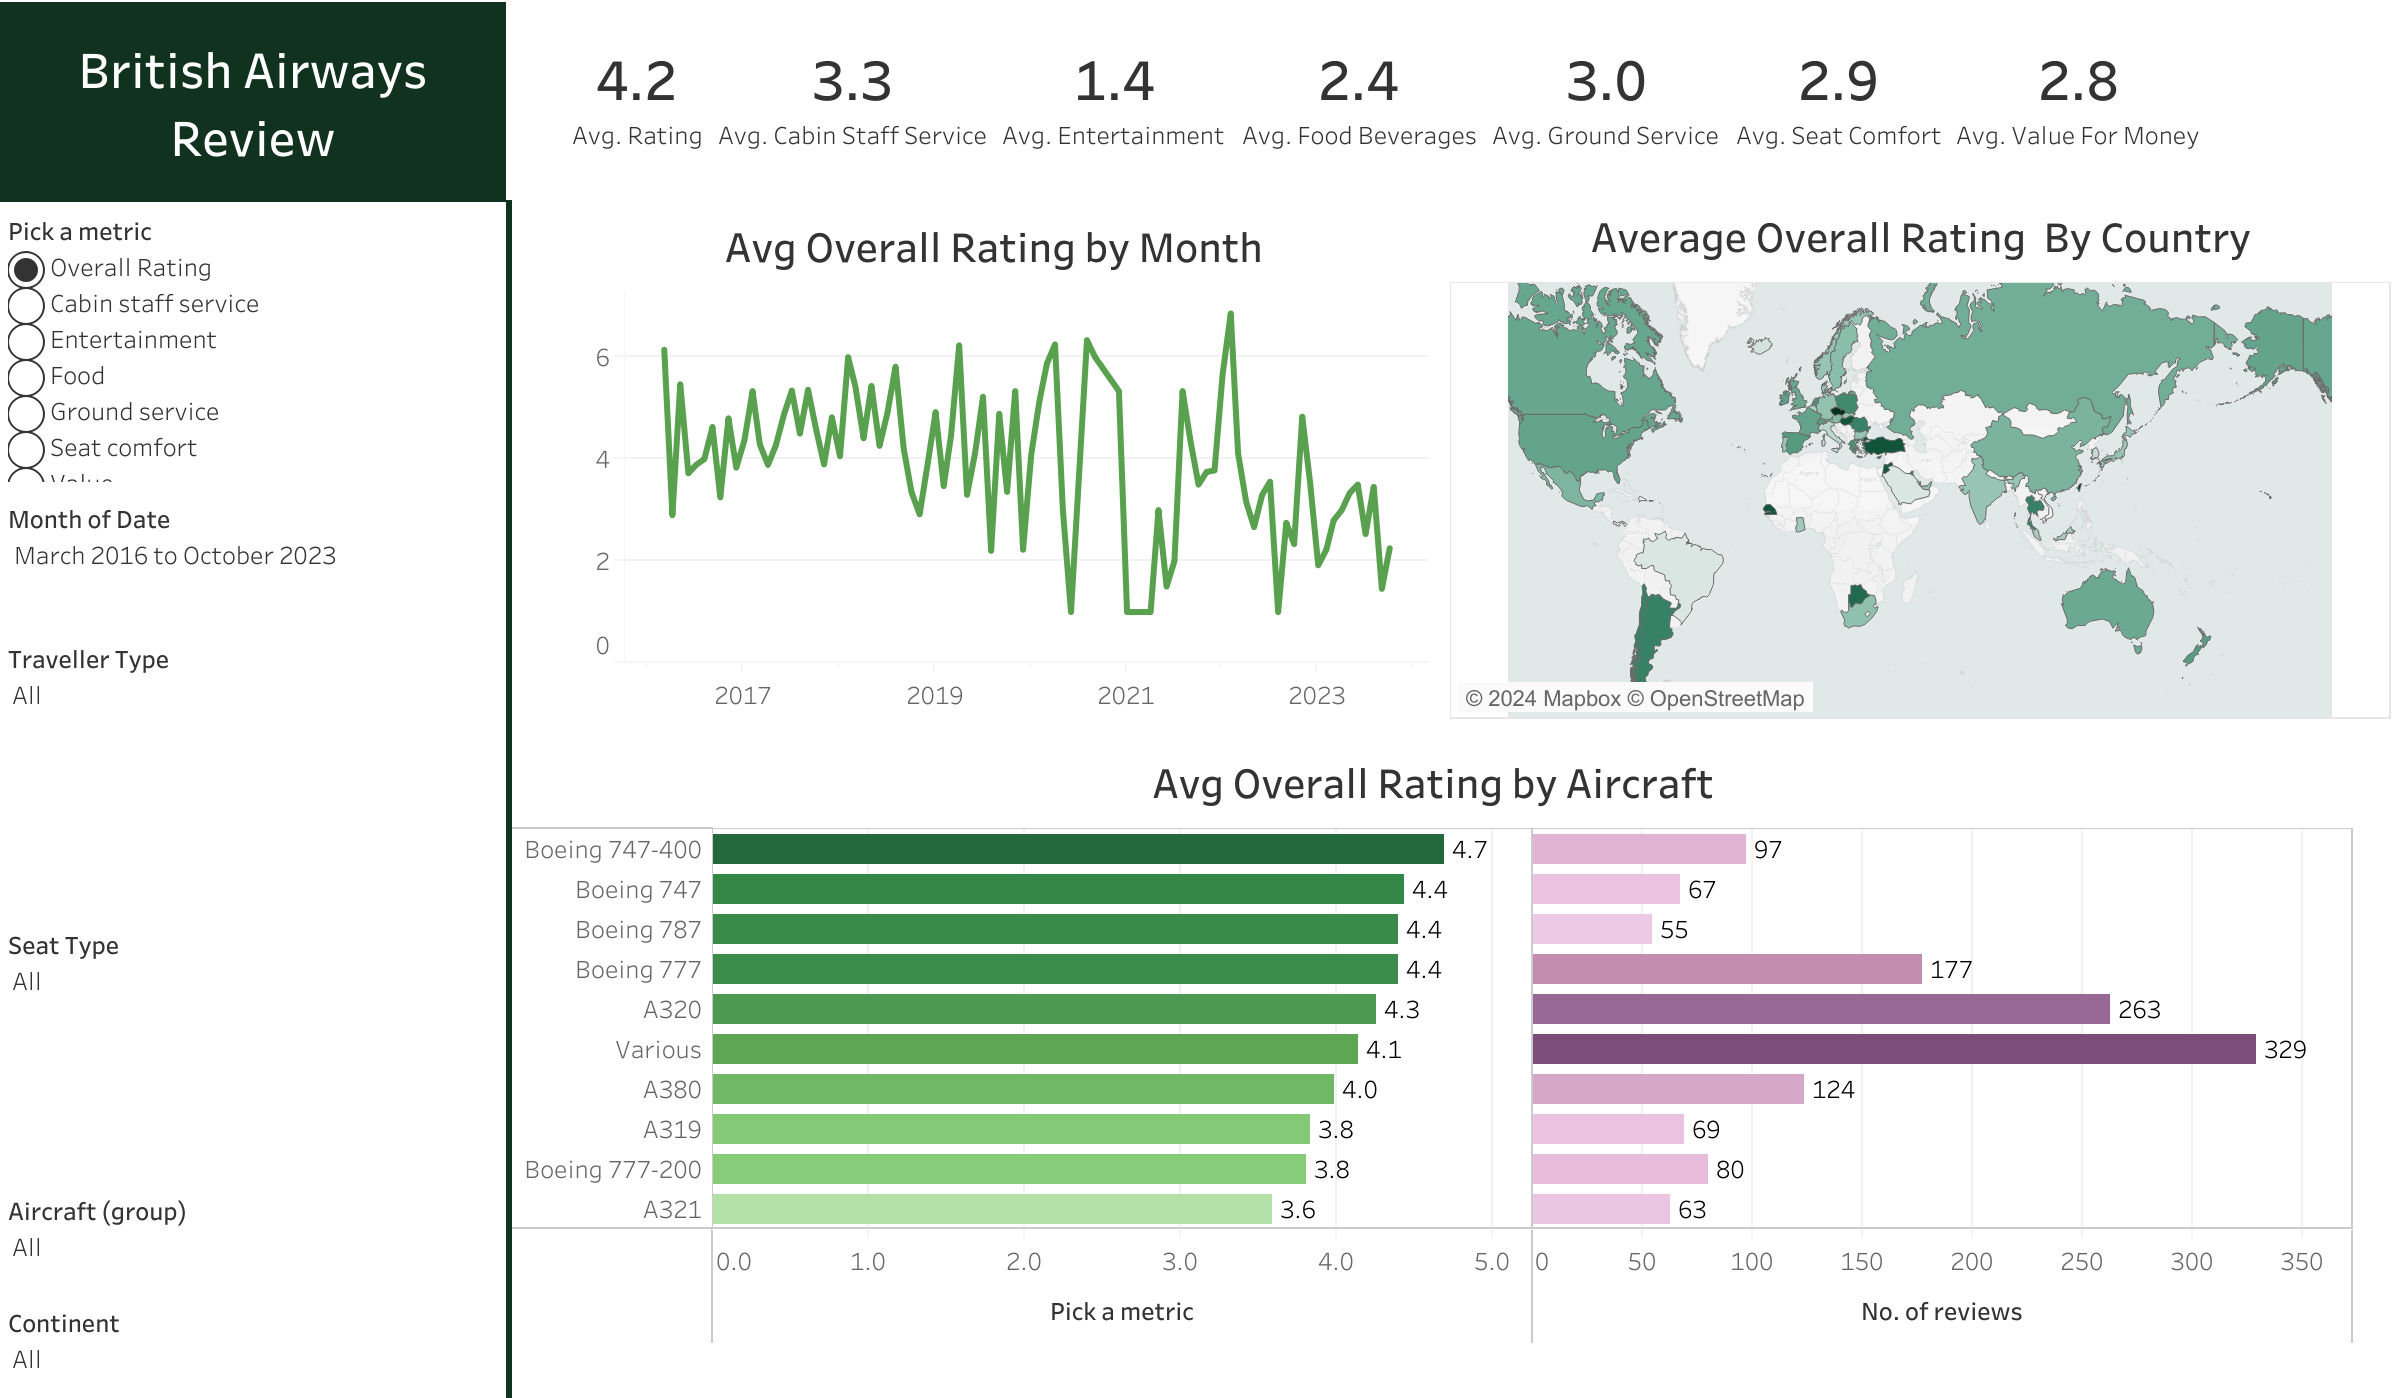

The dashboard page shown, as its layout file describes it:
{"tool":"tableau","page":{"name":"Dashboard 1","canvas":[1200,700],"ordinal":0},"visuals":[{"type":"title","box":[0,1,253,100]},{"type":"worksheet","title":"Summary","mark":"Automatic","box":[278,1,922,100]},{"type":"worksheet","title":"Map","mark":"Automatic","box":[725,98,471,262]},{"type":"blank","box":[253,100,3,600]},{"type":"parameter","param":"[Parameters].[Parameter 1]","box":[0,101,253,156]},{"type":"worksheet","title":"Month","mark":"Automatic","rows":["Calculation_2949646682829025280"],"cols":["date"],"box":[278,101,438,262]},{"type":"filter","title":"Map","param":"[federated.1vhcs860m25i4418o219k0uni1vg].[tmn:date:qk]","box":[0,257,253,69]},{"type":"filter","title":"Map","param":"[federated.1vhcs860m25i4418o219k0uni1vg].[none:traveller_type:nk]","box":[0,326,253,146]},{"type":"worksheet","title":"Aircraft","mark":"Automatic","cols":["Calculation_2949646682829025280","ba_reviews.csv_35315638C95D48869092E3E030B2D738"],"box":[256,371,922,326]},{"type":"filter","title":"Map","param":"[federated.1vhcs860m25i4418o219k0uni1vg].[none:seat_type:nk]","box":[0,472,253,127]},{"type":"filter","title":"Map","param":"[federated.1vhcs860m25i4418o219k0uni1vg].[Aircraft (group)]","box":[0,599,253,52]},{"type":"filter","title":"Map","param":"[federated.1vhcs860m25i4418o219k0uni1vg].[none:Continent:nk]","box":[0,651,253,52]}]}

Visuals, with their boxes in screenshot pixels (x1, y1, x2, y2), scaled from the page's 1200x700 canvas onto the 2398x1398 screenshot:
title: 0 2 506 202
"Summary" worksheet: 556 2 2397 202
"Map" worksheet: 1449 196 2390 719
blank: 506 200 512 1397
parameter: 0 202 506 513
"Month" worksheet: 556 202 1431 725
"Map" filter: 0 513 506 651
"Map" filter: 0 651 506 943
"Aircraft" worksheet: 512 741 2354 1392
"Map" filter: 0 943 506 1196
"Map" filter: 0 1196 506 1300
"Map" filter: 0 1300 506 1397
